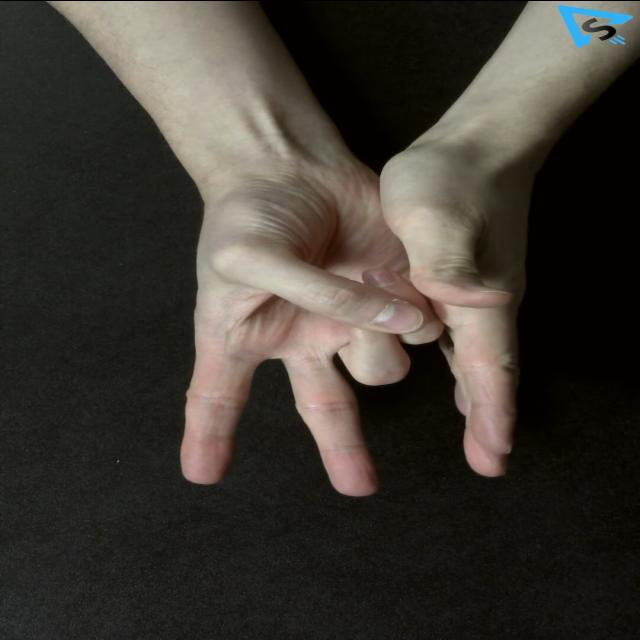Scissors: (176, 160, 447, 496)
